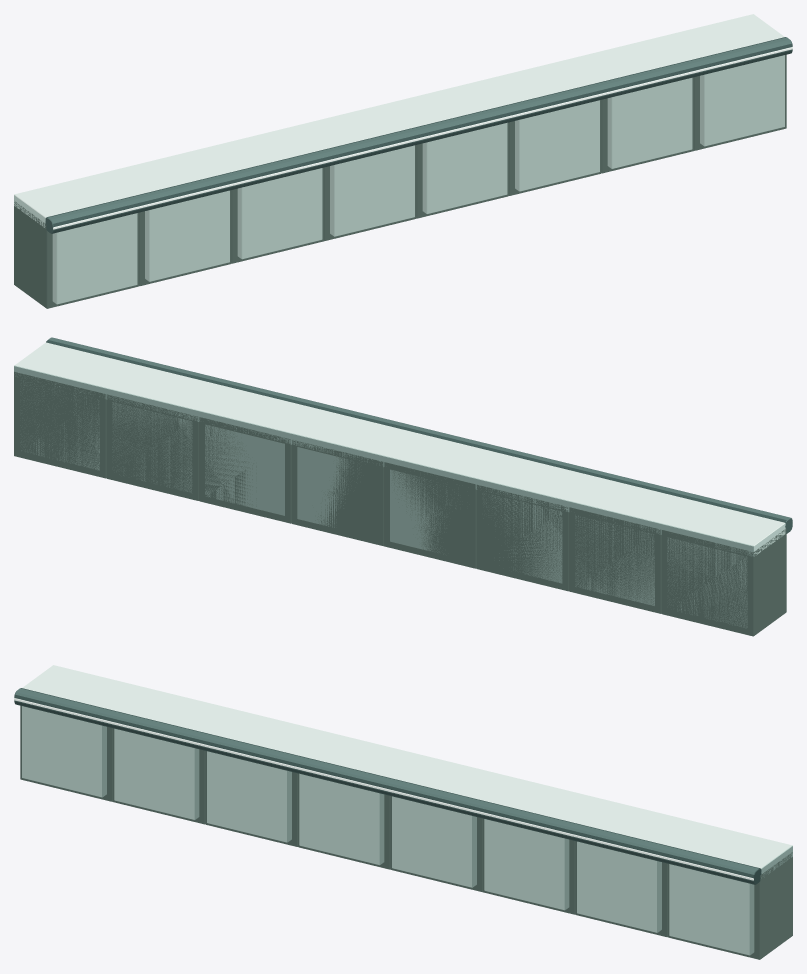
File: Terrain_TopRun8.gltf
3 views of the same model, one above another, from view 1: azimuth 30°, elevation 25°; view 2: azimuth 150°, elevation 25°; view 3: azimuth 330°, elevation 25° (orthographic).
Parts seen in each view (by area): view 1: Terrain_TopRun8_baked; view 2: Terrain_TopRun8_baked; view 3: Terrain_TopRun8_baked.
Part boxes in pixels (<box>): Terrain_TopRun8_baked: <box>14,14,792,308</box>; Terrain_TopRun8_baked: <box>14,337,792,636</box>; Terrain_TopRun8_baked: <box>14,665,792,959</box>.
Bounding box in the file's own units: 8 × 0.9495 × 0.74.
